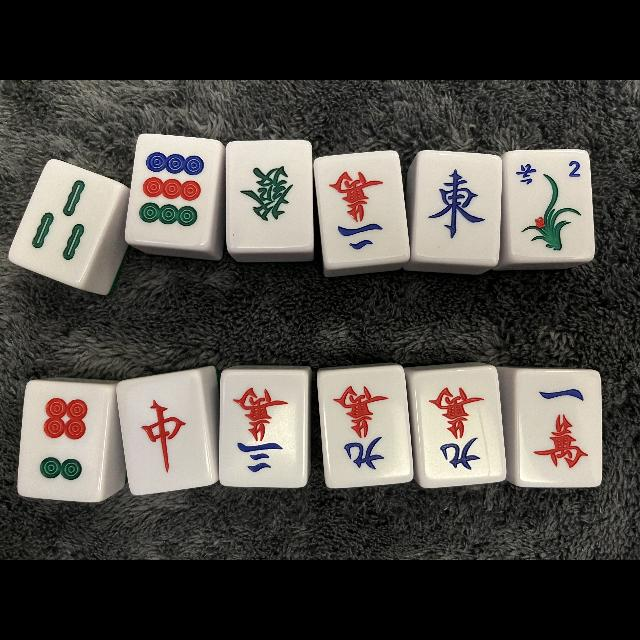b3: (22, 170, 108, 270)
b9: (132, 137, 212, 241)
c1: (517, 372, 601, 484)
c2: (323, 154, 401, 264)
c3: (222, 372, 302, 486)
c9: (324, 371, 404, 482), (416, 372, 496, 482)
d6: (22, 384, 106, 494)
dg: (226, 142, 312, 246)
dr: (124, 376, 204, 492)
f2: (508, 152, 592, 190)
we: (418, 154, 500, 258)
